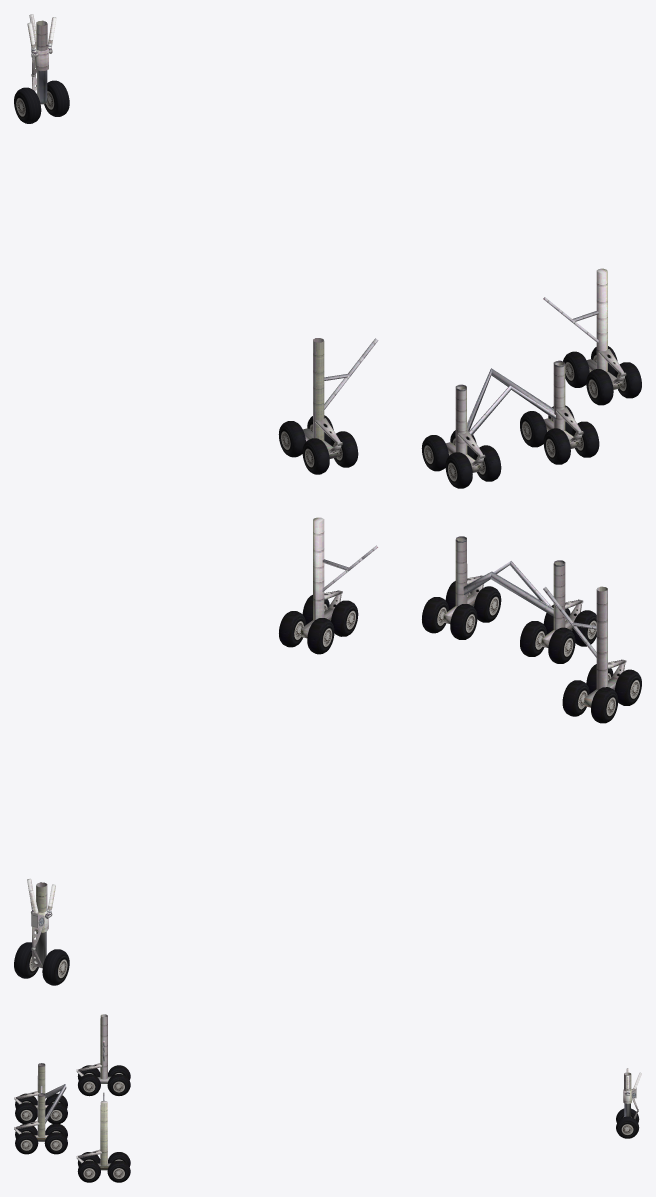
3 renders of one model, top to bottom at view 1: azimuth 30°, elevation 25°; view 2: azimuth 150°, elevation 25°; view 3: azimuth 270°, elevation 25°, orthographic. The views are drawn at different scales.
Parts seen in each view (by area): view 1: GearNoseWheels, blg.lr, blg.rr, wlg.lr, wlg.rr, wlg_left_main, wlg_right_main, blg_right_main, blg_left_main, wlg.lf, blg.lf, wlg.rf (+1 smaller); view 2: wlg.lf, wlg.rf, blg.lf, blg.rf, GearNoseWheels, wlg_left_main, wlg_right_main, wlg.rr, wlg.lr, blg_right_main, blg.rr, blg_left_main (+1 smaller); view 3: wlg.rf, blg.rf, wlg.lf, wlg_right_main, GearNoseWheels, blg.rr, wlg.rr, wlg_left_main, wlg.lr, blg.lr, blg.lf, blg_right_main (+1 smaller).
Part boxes in pixels (x1=…): GearNoseWheels: x1=14, y1=80, x2=69, y2=123; blg.lr: x1=445, y1=445, x2=501, y2=488; blg.rr: x1=543, y1=421, x2=599, y2=464; wlg.lr: x1=302, y1=431, x2=358, y2=474; wlg.rr: x1=586, y1=362, x2=641, y2=405; wlg_left_main: x1=303, y1=338, x2=336, y2=458; wlg_right_main: x1=586, y1=268, x2=620, y2=389; blg_right_main: x1=544, y1=360, x2=577, y2=448; blg_left_main: x1=446, y1=384, x2=479, y2=472; wlg.lf: x1=278, y1=415, x2=333, y2=457; blg.lf: x1=421, y1=430, x2=476, y2=471; wlg.rf: x1=563, y1=346, x2=617, y2=387; wlg.lf: x1=562, y1=680, x2=618, y2=723; wlg.rf: x1=279, y1=611, x2=334, y2=654; blg.lf: x1=520, y1=621, x2=575, y2=663; blg.rf: x1=422, y1=597, x2=477, y2=639; GearNoseWheels: x1=14, y1=942, x2=69, y2=985; wlg_left_main: x1=584, y1=586, x2=617, y2=707; wlg_right_main: x1=301, y1=517, x2=333, y2=638; wlg.rr: x1=302, y1=595, x2=358, y2=636; wlg.lr: x1=586, y1=664, x2=641, y2=705; blg_right_main: x1=443, y1=536, x2=476, y2=623; blg.rr: x1=445, y1=581, x2=501, y2=622; blg_left_main: x1=541, y1=560, x2=574, y2=647; wlg.rf: x1=107, y1=1152, x2=130, y2=1182; blg.rf: x1=44, y1=1123, x2=67, y2=1154; wlg.lf: x1=107, y1=1065, x2=130, y2=1095; wlg_right_main: x1=97, y1=1100, x2=110, y2=1170; GearNoseWheels: x1=616, y1=1108, x2=639, y2=1138; blg.rr: x1=15, y1=1123, x2=38, y2=1154; wlg.rr: x1=77, y1=1152, x2=100, y2=1182; wlg_left_main: x1=97, y1=1014, x2=110, y2=1083; wlg.lr: x1=77, y1=1065, x2=100, y2=1096; blg.lr: x1=15, y1=1093, x2=37, y2=1123; blg.lf: x1=45, y1=1093, x2=67, y2=1123; blg_right_main: x1=34, y1=1093, x2=48, y2=1141.
Size of the model in its own units: 12.65 by 4.49 by 33.82.
4 materials, 3 textured.
